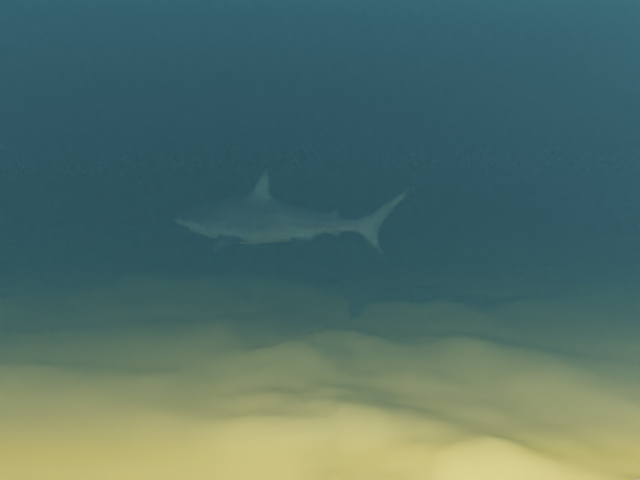Carribean Shark.001: (174, 168, 414, 258)
